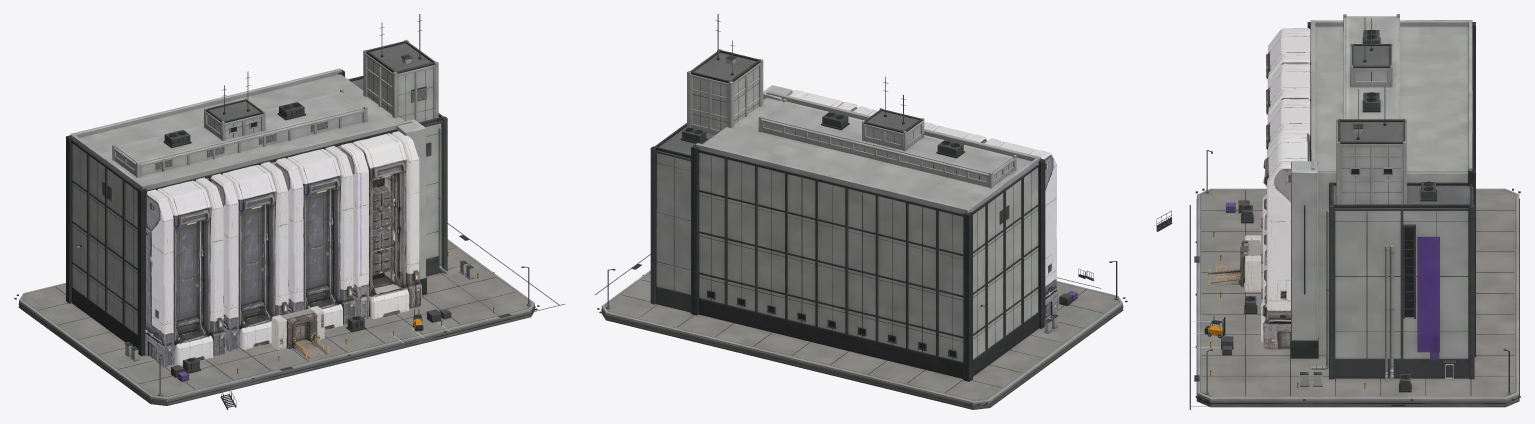
The model's file is silicon_depot.lite.glb.
The picture shows the model from 3 angles, left to right: view 1: azimuth 30°, elevation 25°; view 2: azimuth 150°, elevation 25°; view 3: azimuth 270°, elevation 25°; orthographic projection. The views are drawn at different scales.
Parts seen in each view (by area): view 1: hull, parts_colony-vaultBay, parts_colony-rackBay, parts_colony-entrancePorch; view 2: hull, parts_colony-vaultBay, parts_colony-rackBay; view 3: hull, parts_colony-rackBay, parts_colony-vaultBay, parts_colony-entrancePorch.
Part boxes in pixels (x1,y1,x2,y2): hull: (14, 14, 565, 409); parts_colony-vaultBay: (145, 146, 355, 367); parts_colony-rackBay: (340, 131, 421, 319); parts_colony-entrancePorch: (271, 306, 329, 359); hull: (595, 14, 1127, 409); parts_colony-vaultBay: (853, 106, 1057, 320); parts_colony-rackBay: (789, 90, 858, 111); hull: (1156, 14, 1520, 409); parts_colony-rackBay: (1261, 133, 1307, 349); parts_colony-vaultBay: (1261, 28, 1310, 301); parts_colony-entrancePorch: (1208, 235, 1261, 291).
Size of the model in its own units: 78.29 by 48.1 by 54.28.
7 materials, 7 textured.
